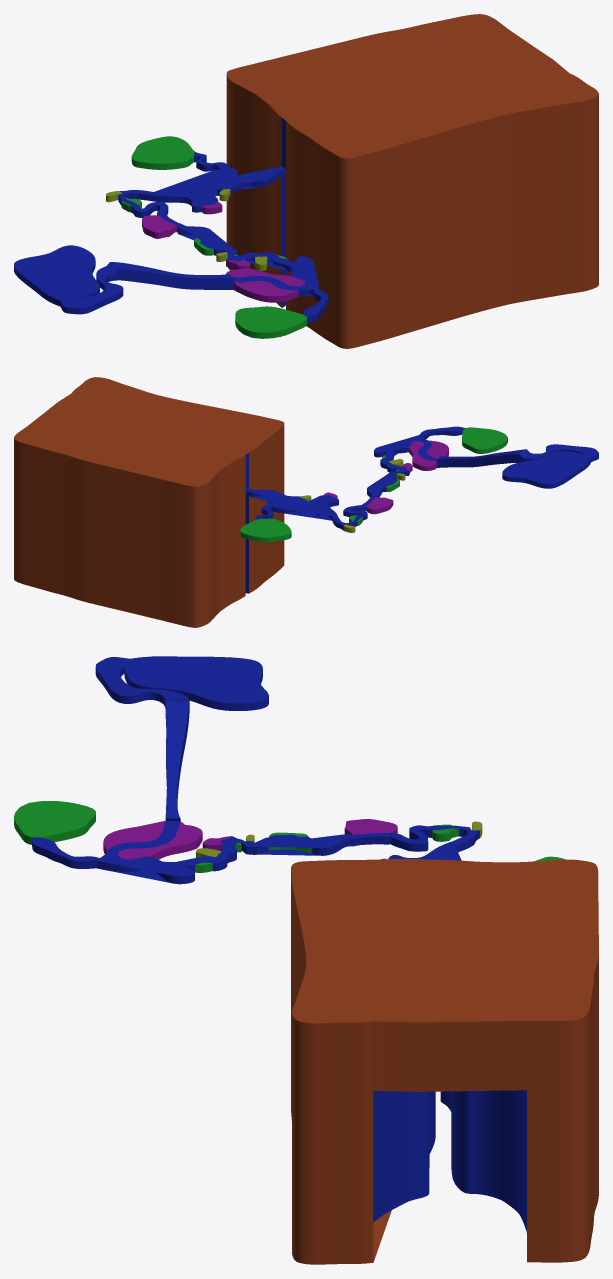
The model's file is Dungeon-Floor-Layout-V6-World-Whitebox.fbx.
3 views of the same model, one above another, from view 1: azimuth 30°, elevation 25°; view 2: azimuth 150°, elevation 25°; view 3: azimuth 270°, elevation 25° (orthographic). The views are drawn at different scales.
Visible parts, largest first — view 1: Dungeon Floor Layout V2 3D; view 2: Dungeon Floor Layout V2 3D; view 3: Dungeon Floor Layout V2 3D.
Part boxes in pixels (<box>): Dungeon Floor Layout V2 3D: <box>14,14,598,348</box>; Dungeon Floor Layout V2 3D: <box>14,377,598,627</box>; Dungeon Floor Layout V2 3D: <box>14,656,598,1264</box>.
Bounding box in the file's own units: 36704 × 10907 × 23950.
